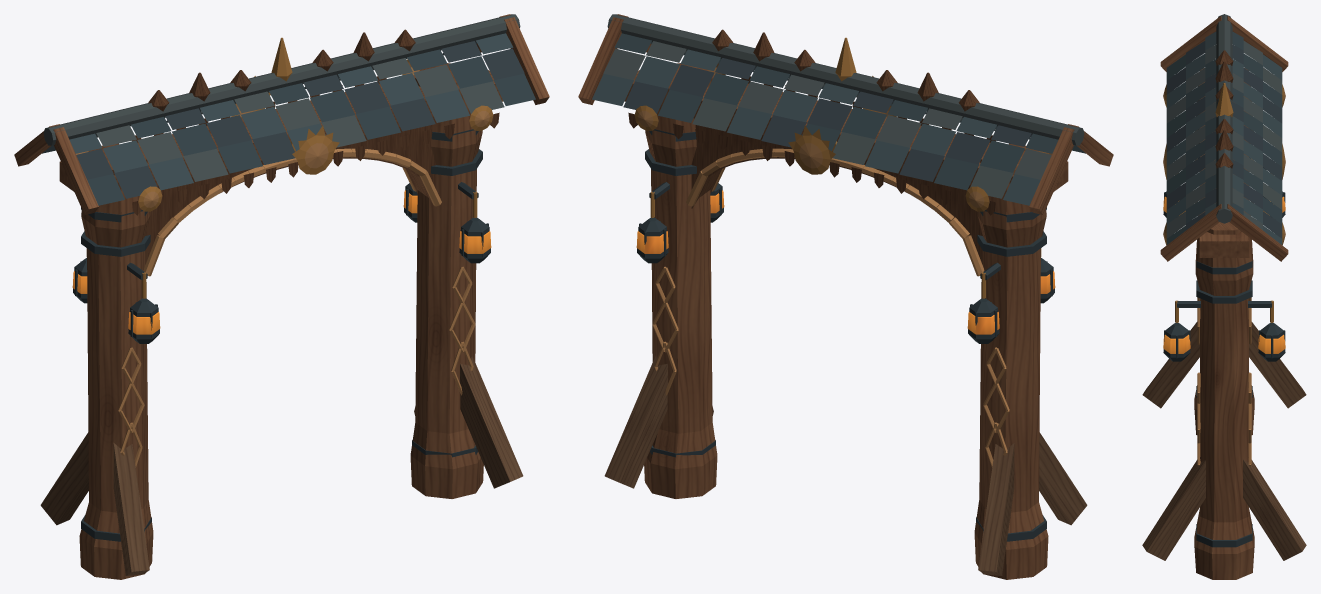
Rendered from gate.glb.
3 views of the same model, side by side, from view 1: azimuth 30°, elevation 25°; view 2: azimuth 150°, elevation 25°; view 3: azimuth 270°, elevation 25° (orthographic). The views are drawn at different scales.
Parts seen in each view (by area): view 1: gate; view 2: gate; view 3: gate.
Boxes of the visible parts, x1=… form: gate: x1=14, y1=14, x2=549, y2=579; gate: x1=578, y1=14, x2=1113, y2=579; gate: x1=1142, y1=14, x2=1306, y2=579.
Size of the model in its own units: 3.98 by 3.96 by 1.42.
11 materials, 4 textured.
